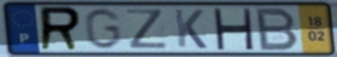B: (255, 6, 301, 52)
G: (82, 7, 124, 51)
H: (210, 7, 255, 52)
K: (172, 8, 209, 51)
R: (38, 5, 83, 53)
Z: (124, 8, 171, 50)
